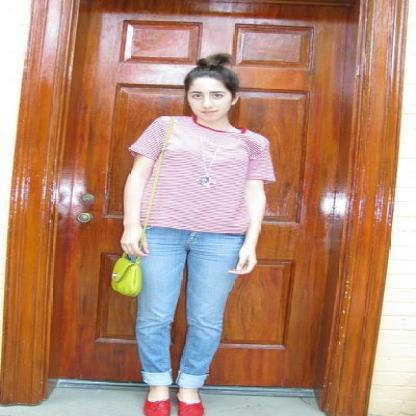bag: (113, 258, 142, 295)
pants: (136, 226, 244, 379)
shirt: (128, 116, 274, 232)
shoe: (143, 391, 203, 415)
